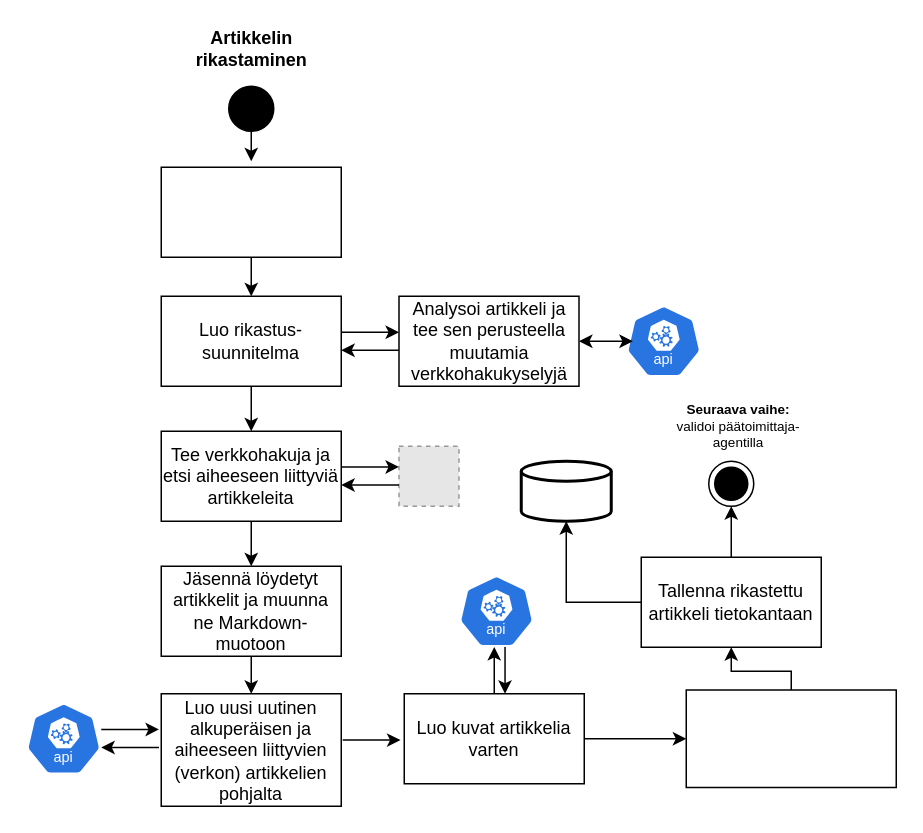
This 923x833 diagram has some shape labels left out. Grey dashed boxes stand in for pictures. Here are the shapes that lost their labels. From the top down, the centre of each, then its label:
point (250, 211): Muunna haettu artikkeli Markdown-muotoon
point (565, 490): Tietokanta
point (790, 738): Muunna luotu artikkeli vektoreiksi vektoritietokantaa varten.
